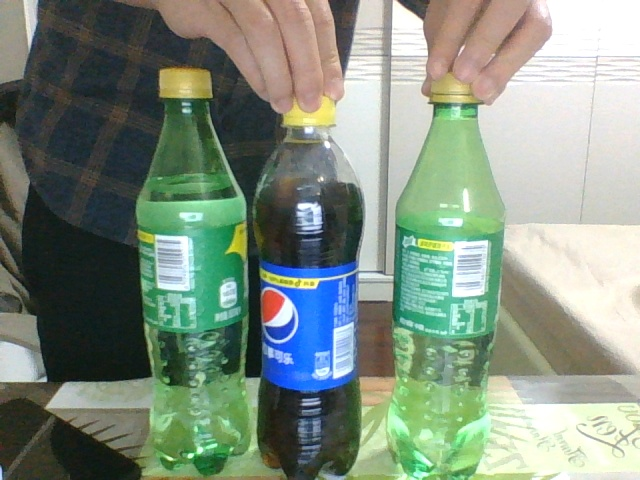Cola: (255, 94, 365, 475)
Sprite: (135, 66, 252, 472), (387, 71, 504, 475)
